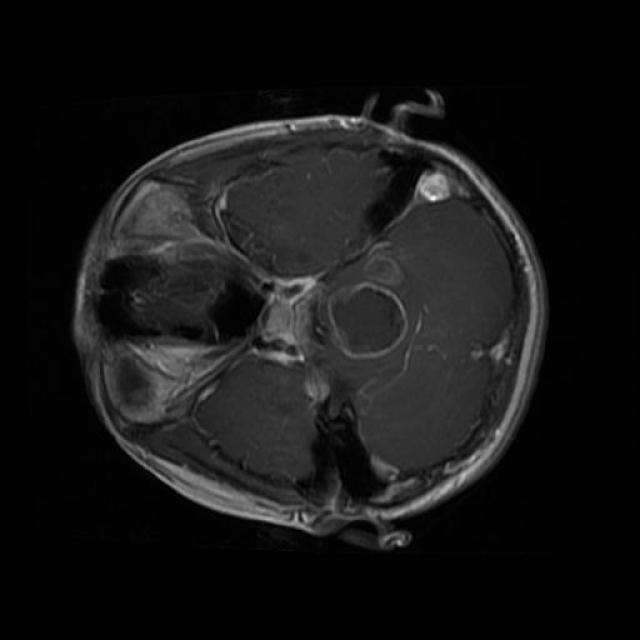Glioma: (326, 280, 409, 357), (360, 242, 404, 289), (417, 171, 451, 201)
